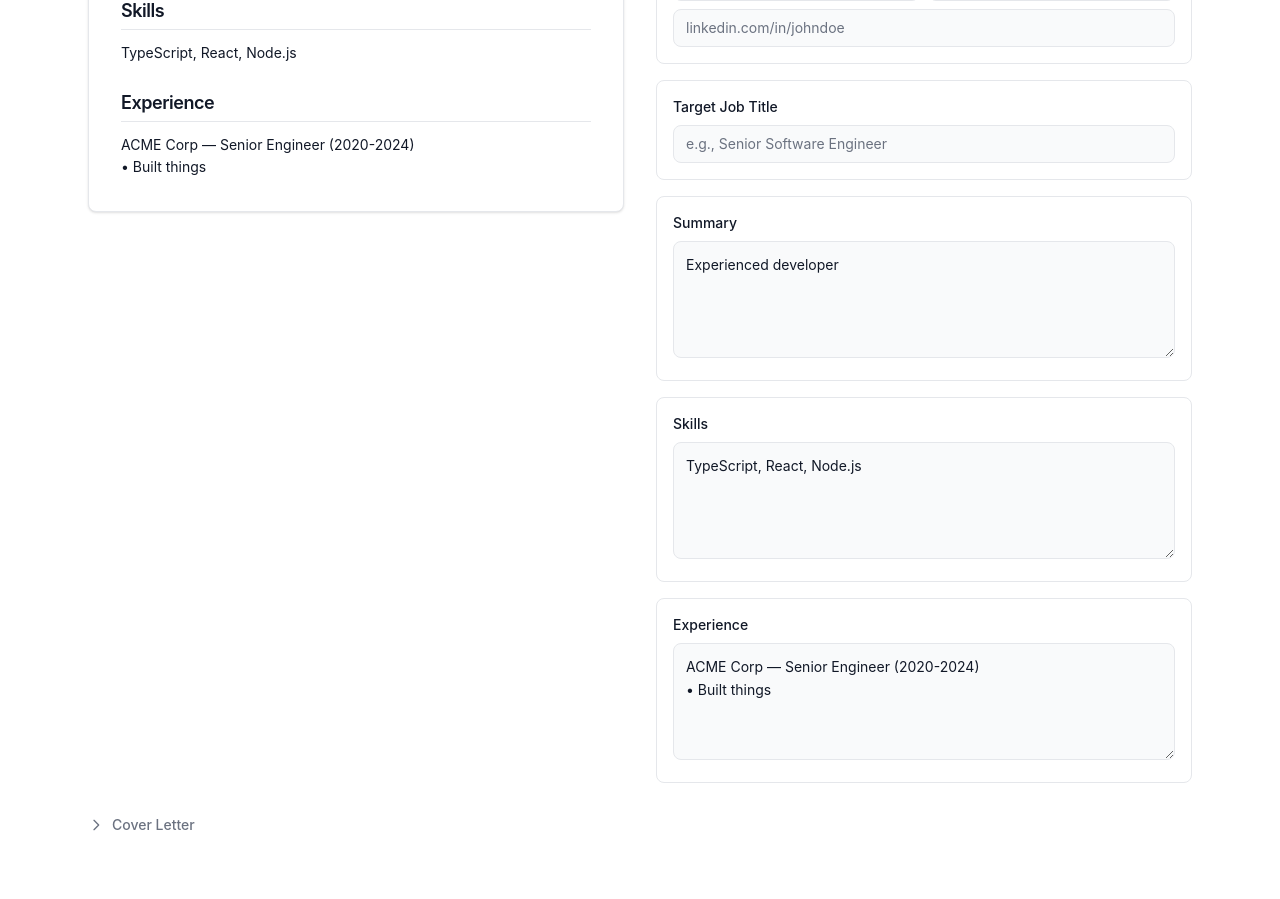
Test: ResultPage › expands cover letter on click
The width and height of the screenshot is (1280, 899).
(page scrolled)
Click the button "Cover Letter".
click(141, 825)  # box [88,815,195,835]
(page scrolled)
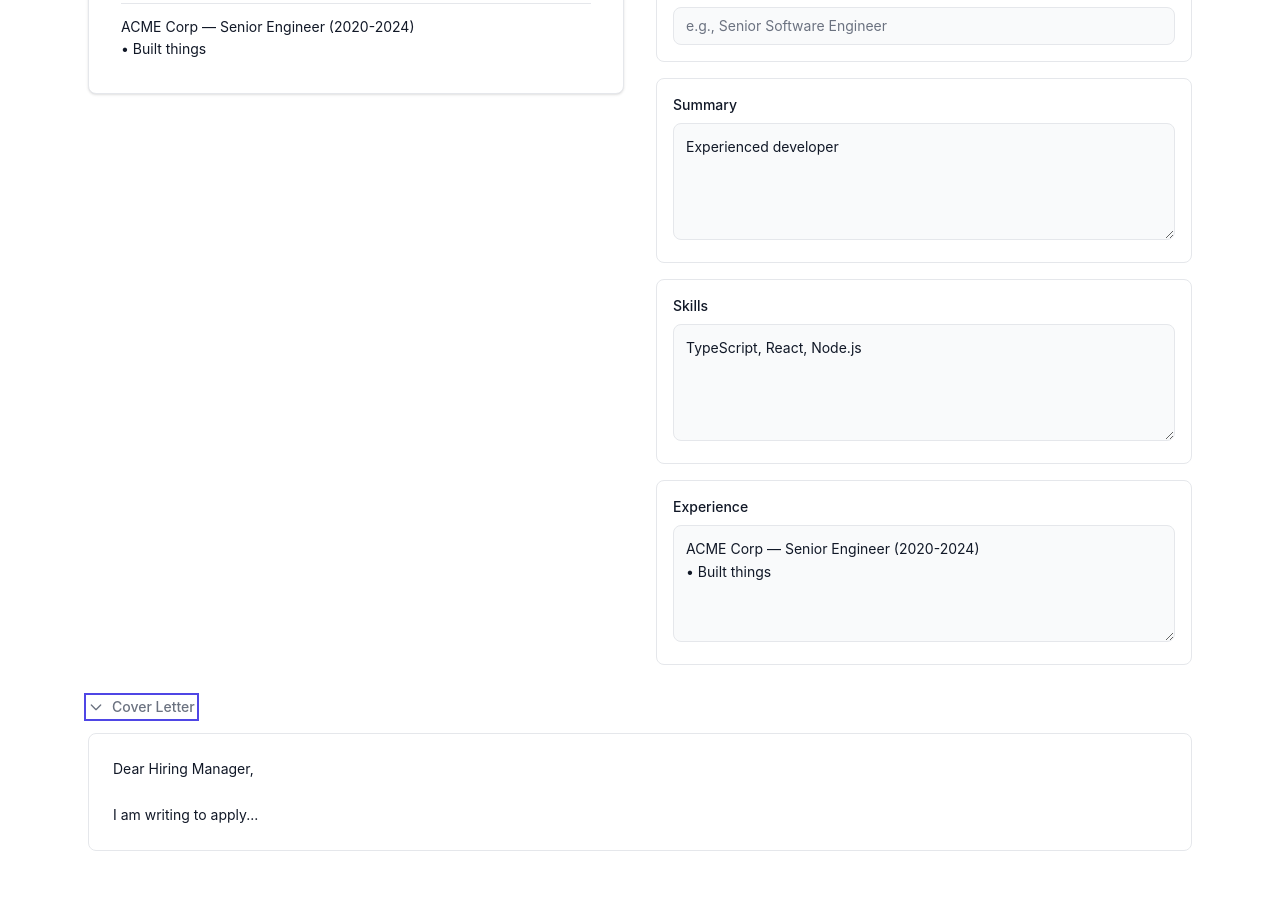
Check: the text "Dear Hiring Manager, I am writing to apply..." is shown, box [113,760,258,822]
Check: the button "Cover Letter" is expanded, box [88,697,195,717]
